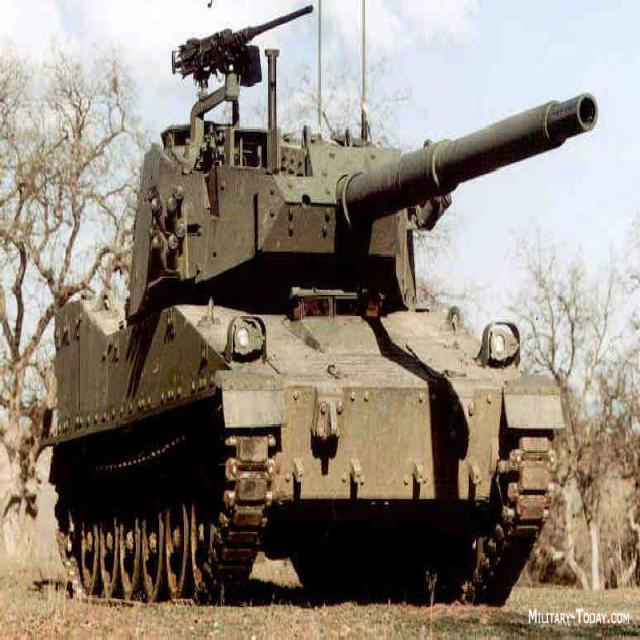Tank: (33, 13, 573, 583)
